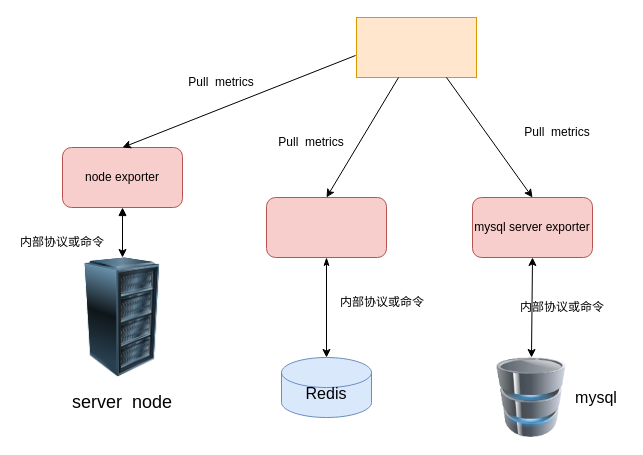
The diagram is 643 pixels wide and 455 high, and some of its shapes have lost their labels. The shapes that lost their labels are listed below. From the top down, each one's centre as x and y in pixels, then its label:
At (416,47): "prometheus".
At (326,227): "redis exporter".
